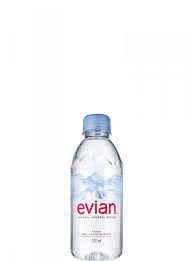PlasticBottle: (65, 110, 129, 260)
